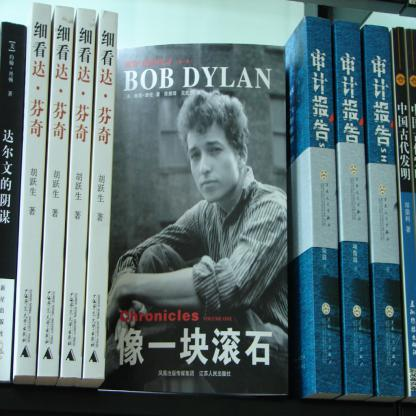book: (106, 41, 290, 396), (0, 0, 118, 392), (335, 20, 416, 406), (284, 20, 342, 399)
